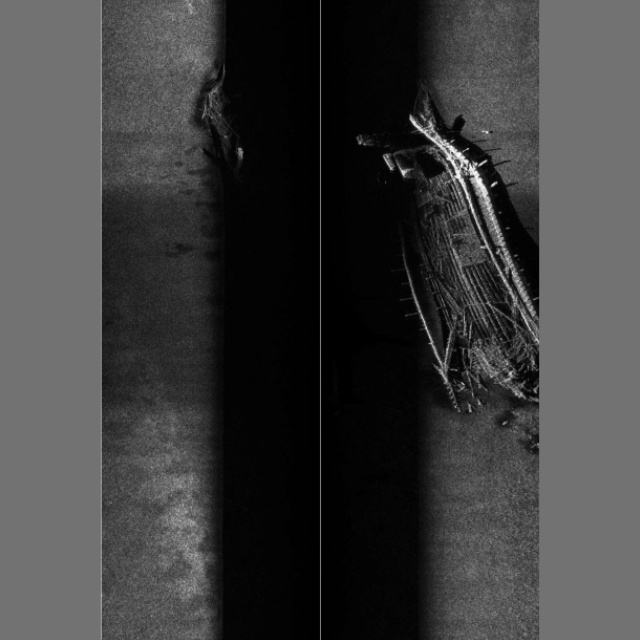Shipwreck: (199, 64, 539, 426)
